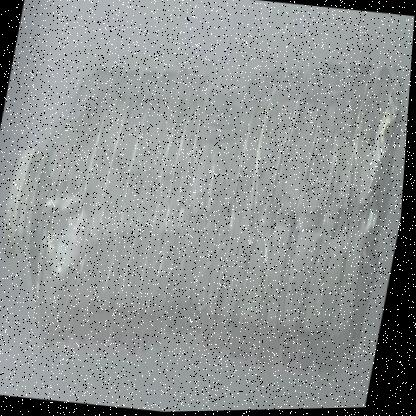bottle cap: (1, 36, 153, 370)
